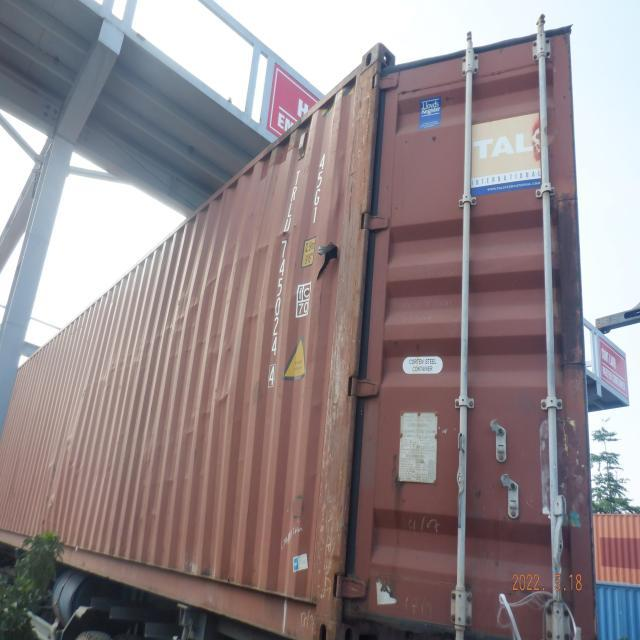hole: (315, 242, 344, 284)
